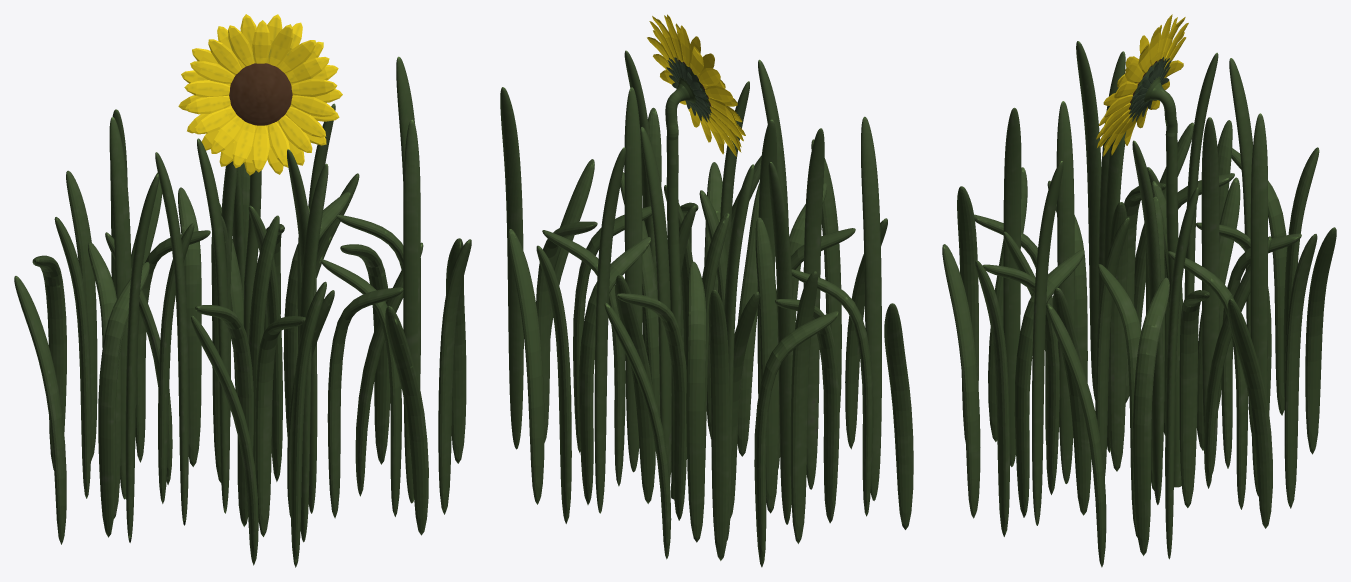
The model's file is Grass1.fbx.
3 renders of one model, left to right at view 1: azimuth 30°, elevation 25°; view 2: azimuth 150°, elevation 25°; view 3: azimuth 270°, elevation 25°, orthographic.
Parts seen in each view (by area): view 1: Grass1; view 2: Grass1; view 3: Grass1.
Part boxes in pixels (left/top/right/bottom): Grass1: left=14, top=14, right=471, bottom=567; Grass1: left=500, top=14, right=913, bottom=567; Grass1: left=942, top=14, right=1336, bottom=567.
Size of the model in its own units: 111 by 123 by 93.73.
Materials: 5 (5 with a texture image).
